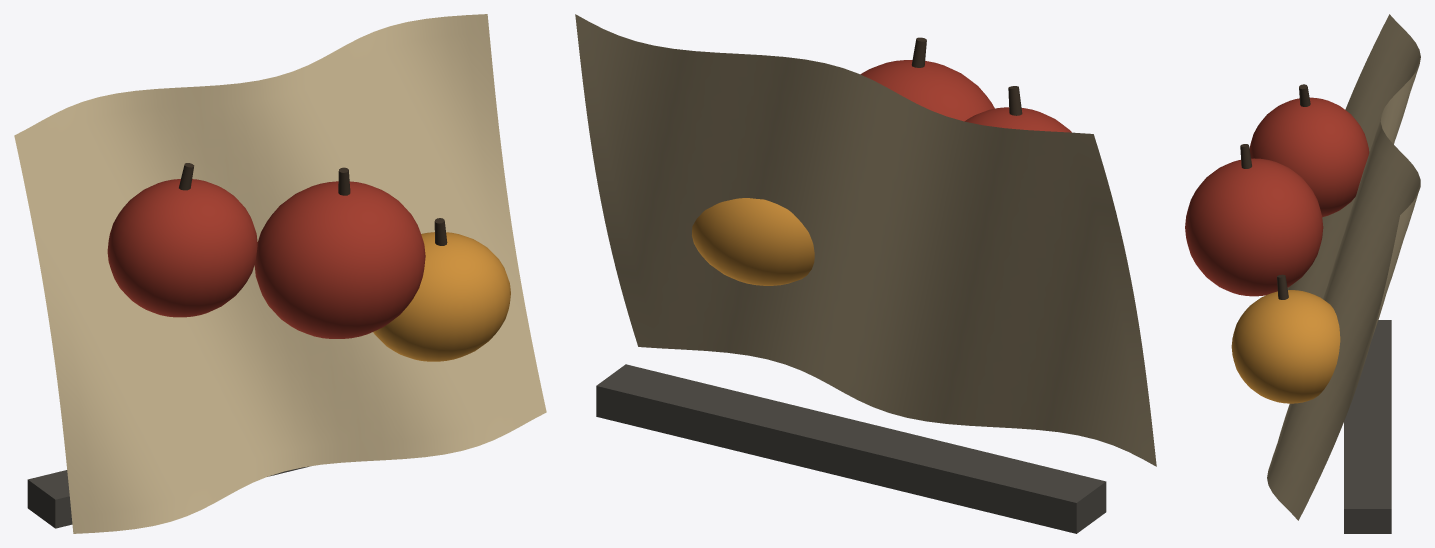
The model's file is aic-111436-v1.glb.
3 renders of one model, left to right at view 1: azimuth 30°, elevation 25°; view 2: azimuth 150°, elevation 25°; view 3: azimuth 270°, elevation 25°, orthographic. The views are drawn at different scales.
Visible parts, largest first — view 1: ImpossibleTablecloth, RedApples, GoldenApple, TableEdge, AppleStems; view 2: ImpossibleTablecloth, TableEdge, GoldenApple, RedApples, AppleStems; view 3: ImpossibleTablecloth, RedApples, GoldenApple, TableEdge, AppleStems.
Part boxes in pixels (bbox=[...]): ImpossibleTablecloth: bbox=[14, 14, 546, 533]; RedApples: bbox=[107, 179, 425, 338]; GoldenApple: bbox=[373, 232, 510, 361]; TableEdge: bbox=[27, 466, 309, 528]; AppleStems: bbox=[179, 163, 447, 245]; ImpossibleTablecloth: bbox=[575, 14, 1156, 466]; TableEdge: bbox=[596, 364, 1106, 533]; GoldenApple: bbox=[692, 198, 814, 285]; RedApples: bbox=[860, 60, 1071, 132]; AppleStems: bbox=[911, 37, 1022, 115]; ImpossibleTablecloth: bbox=[1267, 14, 1420, 520]; RedApples: bbox=[1185, 97, 1369, 296]; GoldenApple: bbox=[1231, 290, 1340, 403]; TableEdge: bbox=[1344, 320, 1391, 533]; AppleStems: bbox=[1240, 84, 1310, 299].
Bounding box in the file's own units: 1.3 × 0.9775 × 0.6436.
